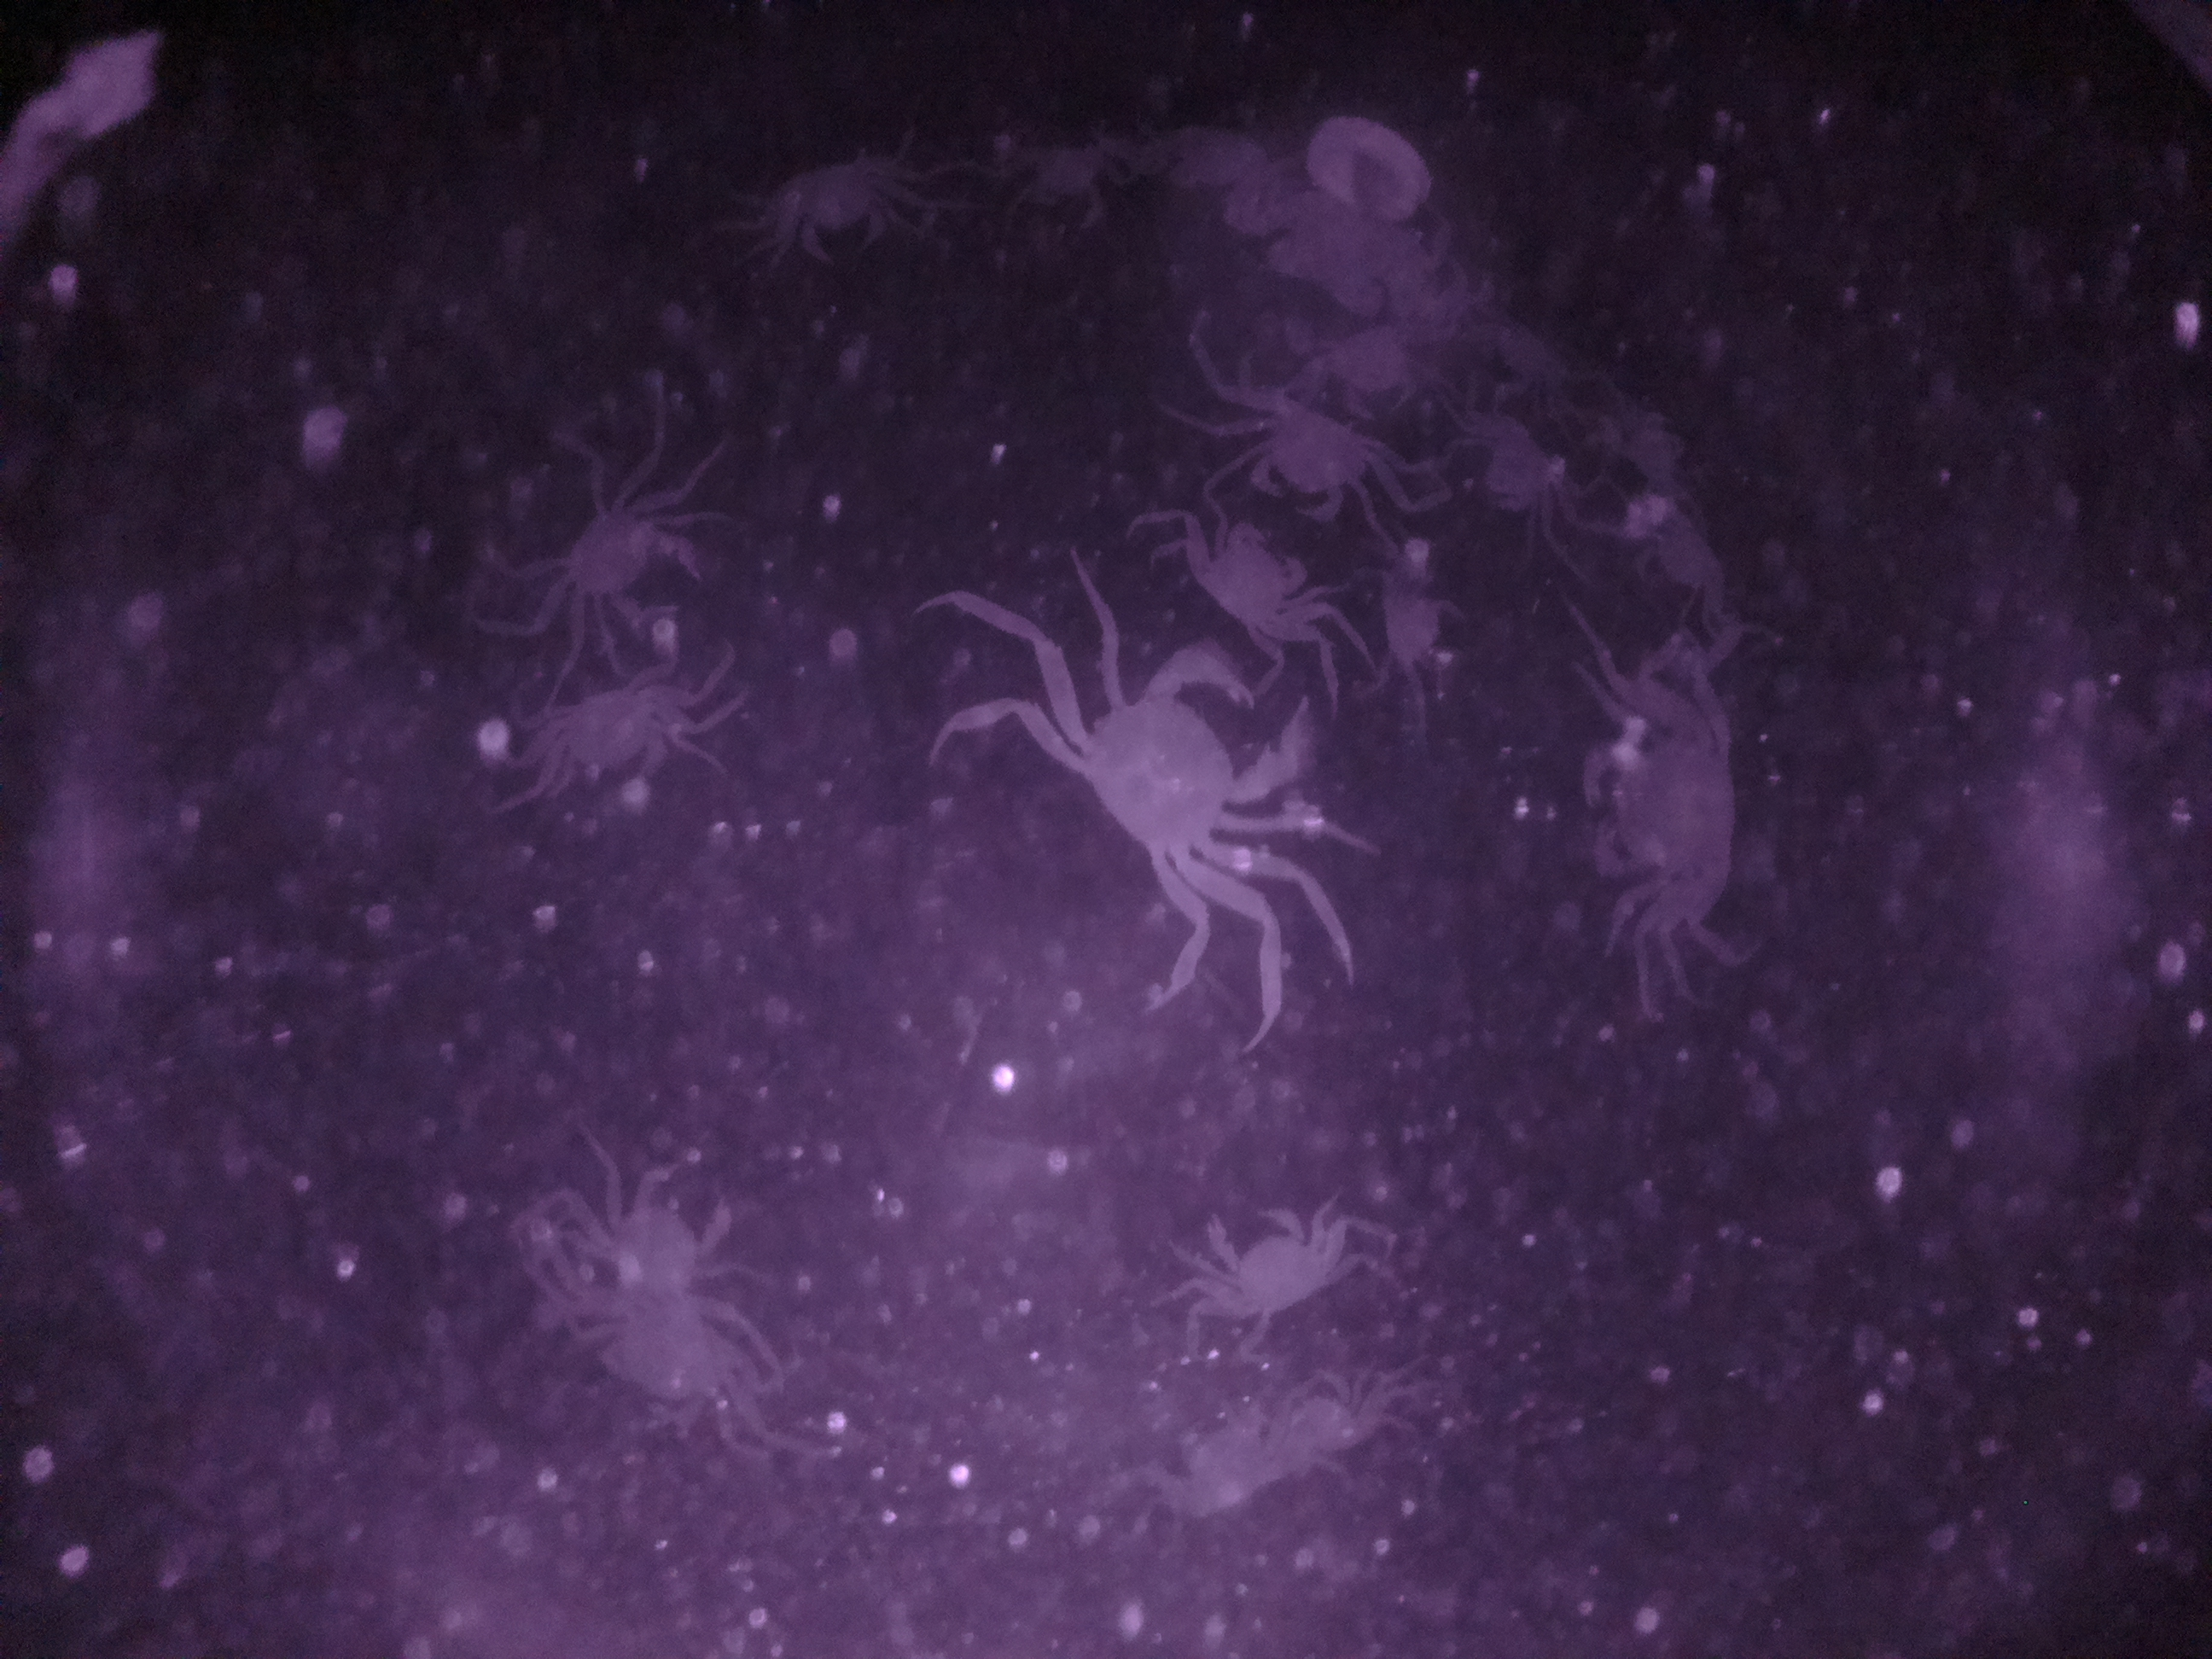Crab: (1024, 653, 1334, 927), (1573, 676, 1754, 943), (540, 464, 719, 664), (1223, 366, 1388, 530), (1172, 1190, 1352, 1338), (1170, 498, 1325, 664), (758, 148, 932, 272)
